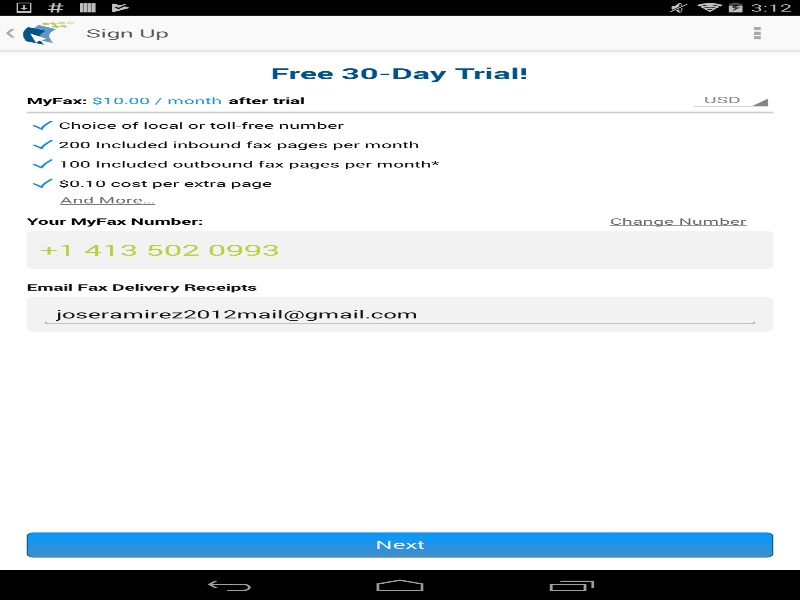Button: (26, 532, 773, 557), (714, 15, 800, 50)
Input: (40, 301, 760, 326)
